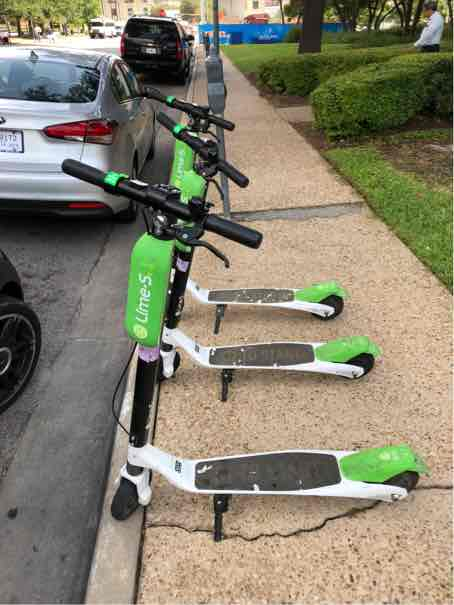scooter: (89, 148, 412, 542), (136, 113, 398, 416), (147, 83, 343, 341)
